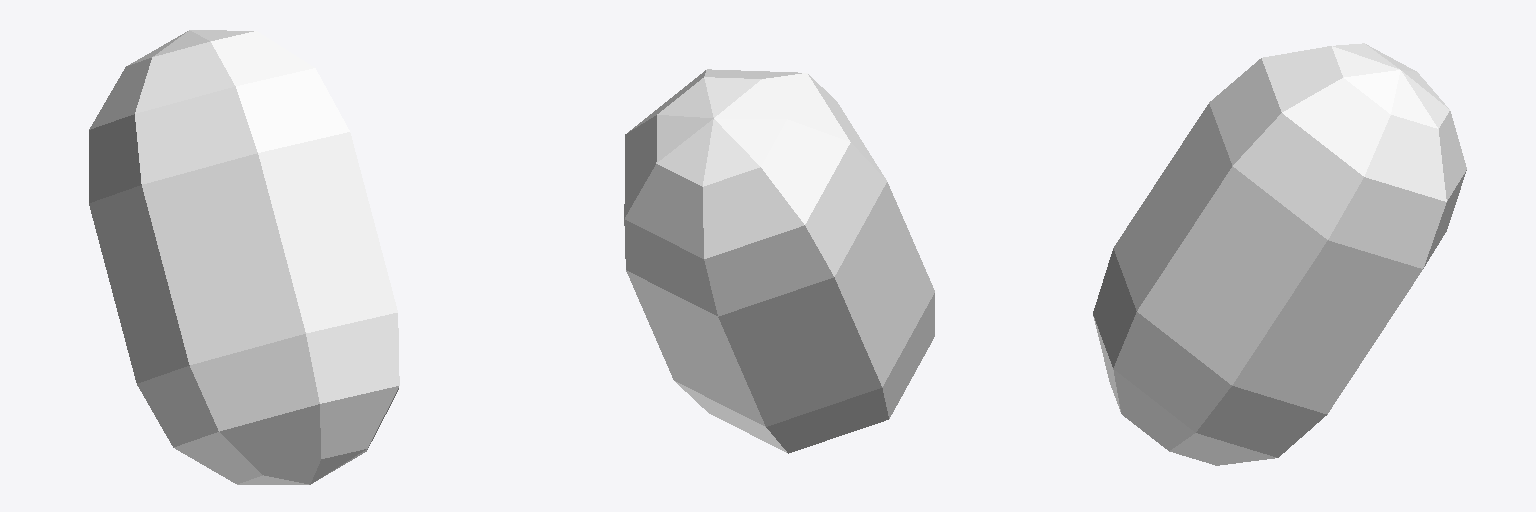
Rendered from pill.obj.
3 views of the same model, side by side, from view 1: azimuth 30°, elevation 25°; view 2: azimuth 150°, elevation 25°; view 3: azimuth 270°, elevation 25° (orthographic).
Visible parts, largest first — view 1: Capsule001; view 2: Capsule001; view 3: Capsule001.
Part boxes in pixels (left/top/right/bottom): Capsule001: left=89, top=30, right=399, bottom=484; Capsule001: left=624, top=69, right=934, bottom=453; Capsule001: left=1093, top=43, right=1466, bottom=465.
Bounding box in the file's own units: 5.98 × 9.81 × 8.3.